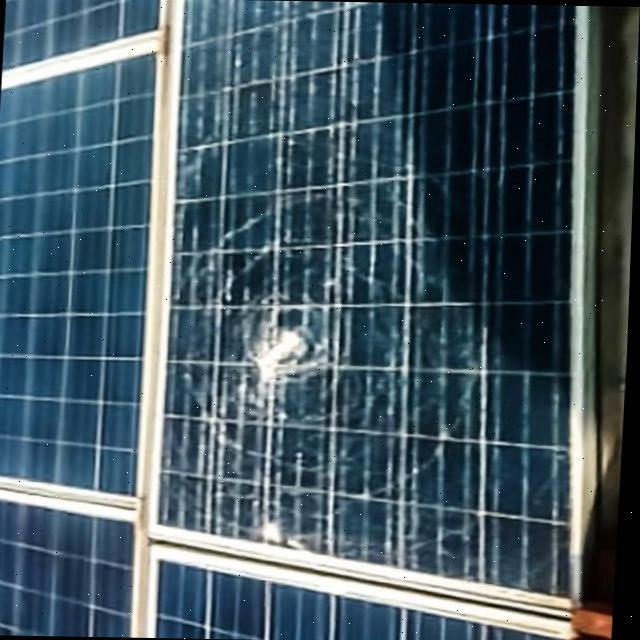Anomaly Solar Panel: (160, 0, 575, 596)
Structural Damage: (196, 239, 382, 497)
